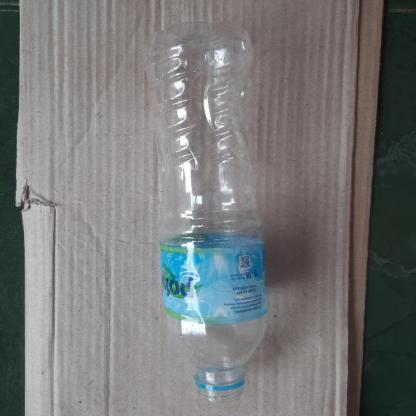Plastic Bottle: (147, 21, 269, 404)
